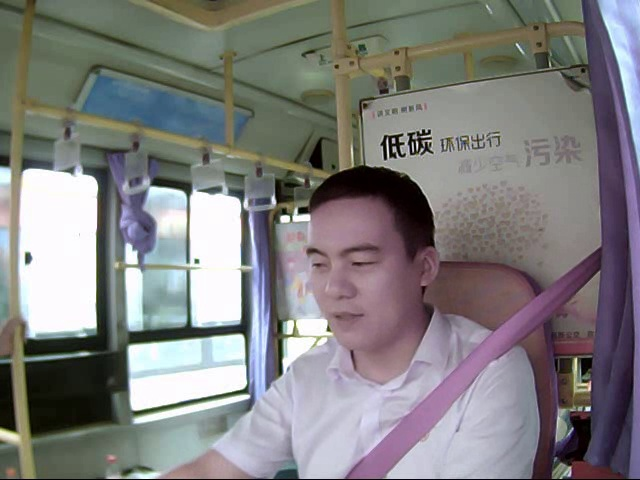closed_mouth: (323, 308, 365, 328)
open_eye: (342, 259, 382, 269), (306, 260, 328, 272)
